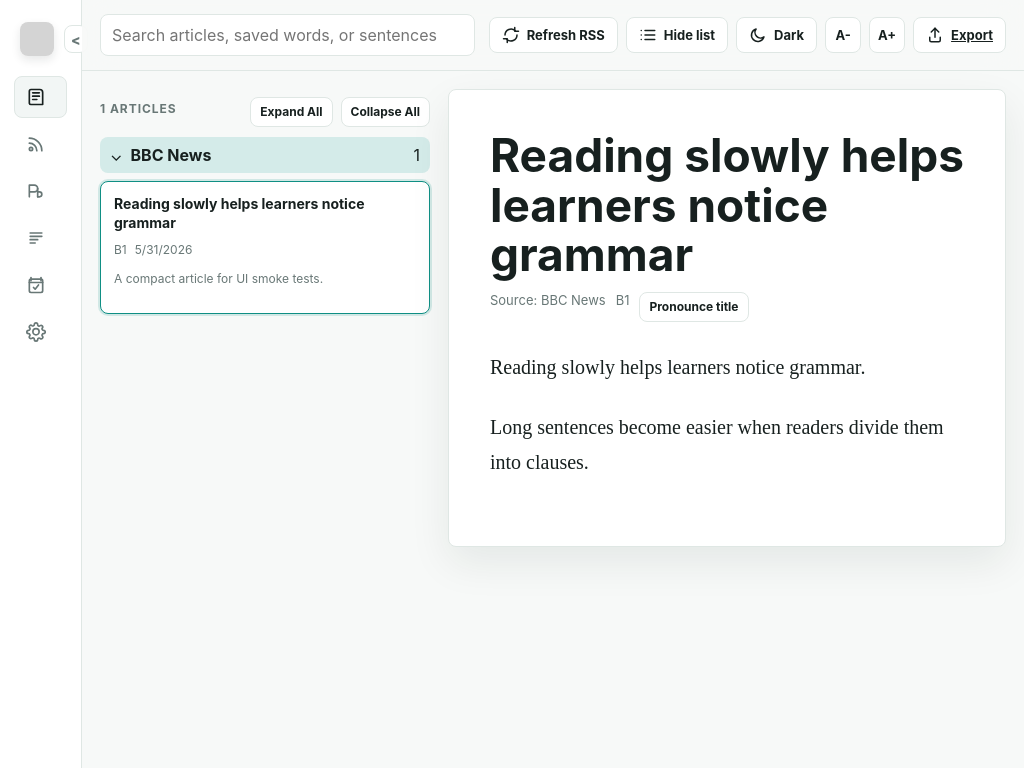
Test: MagReader UI smoke › renders a mobile-friendly RSS URL input with a paste action
Click the 2nd button with class "nav-button".
click(40, 144)  # box left=14, top=123, right=67, bottom=165
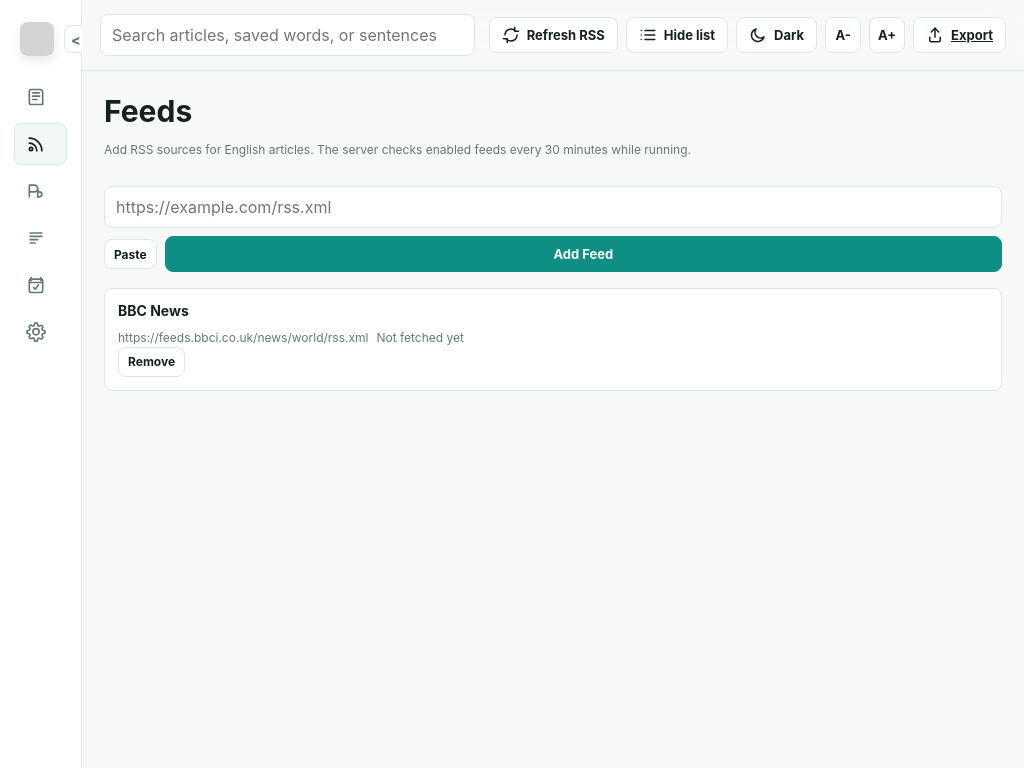
Result: the button "Paste" is shown at left=104, top=239, right=157, bottom=269
